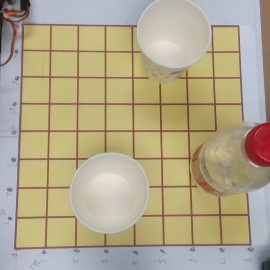bottle: (173, 118, 270, 214)
cup: (126, 0, 212, 89), (64, 150, 150, 236)
